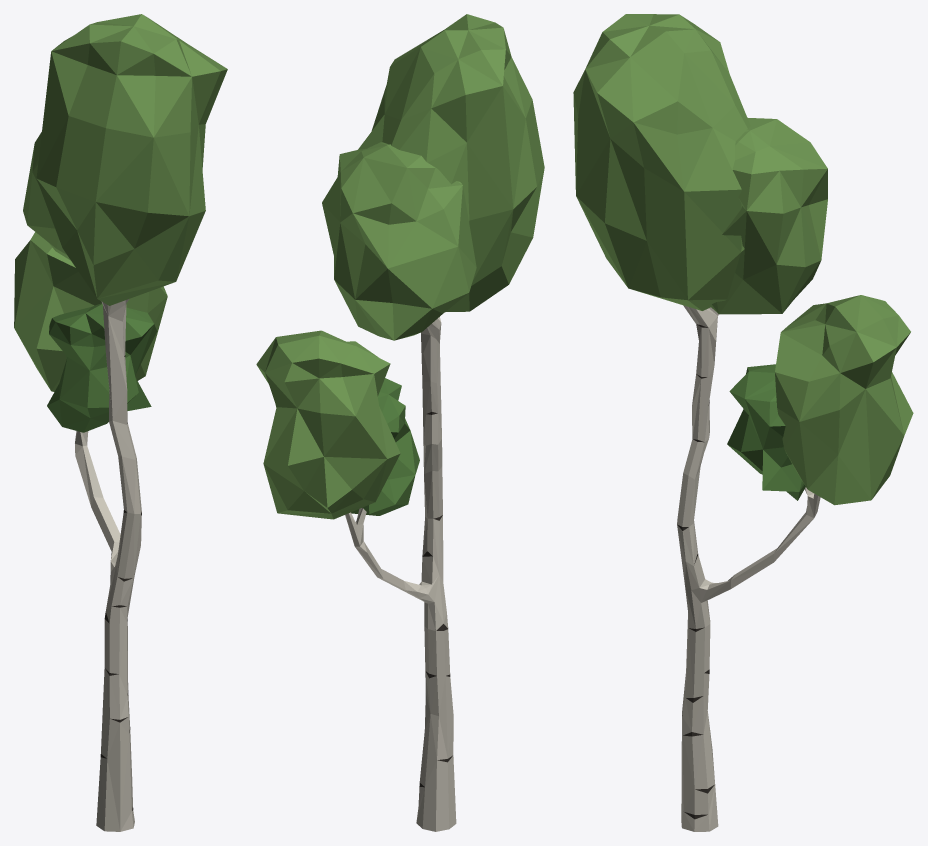
File: BirchTree_5.glb
The picture shows the model from 3 angles, left to right: view 1: azimuth 30°, elevation 25°; view 2: azimuth 150°, elevation 25°; view 3: azimuth 270°, elevation 25°; orthographic projection. The views are drawn at different scales.
Visible parts, largest first — view 1: BirchTree_5; view 2: BirchTree_5; view 3: BirchTree_5.
Part boxes in pixels (box(x1,y1,x2,y2)): BirchTree_5: box(14, 14, 227, 831); BirchTree_5: box(256, 14, 544, 831); BirchTree_5: box(573, 14, 913, 831).
Size of the model in its own units: 1.19 by 5 by 1.93.
